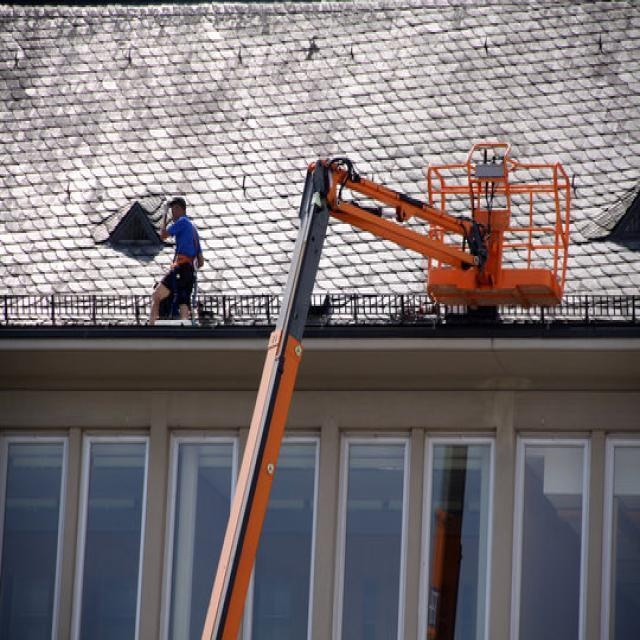Arnes_seguridad: (171, 251, 197, 272)
